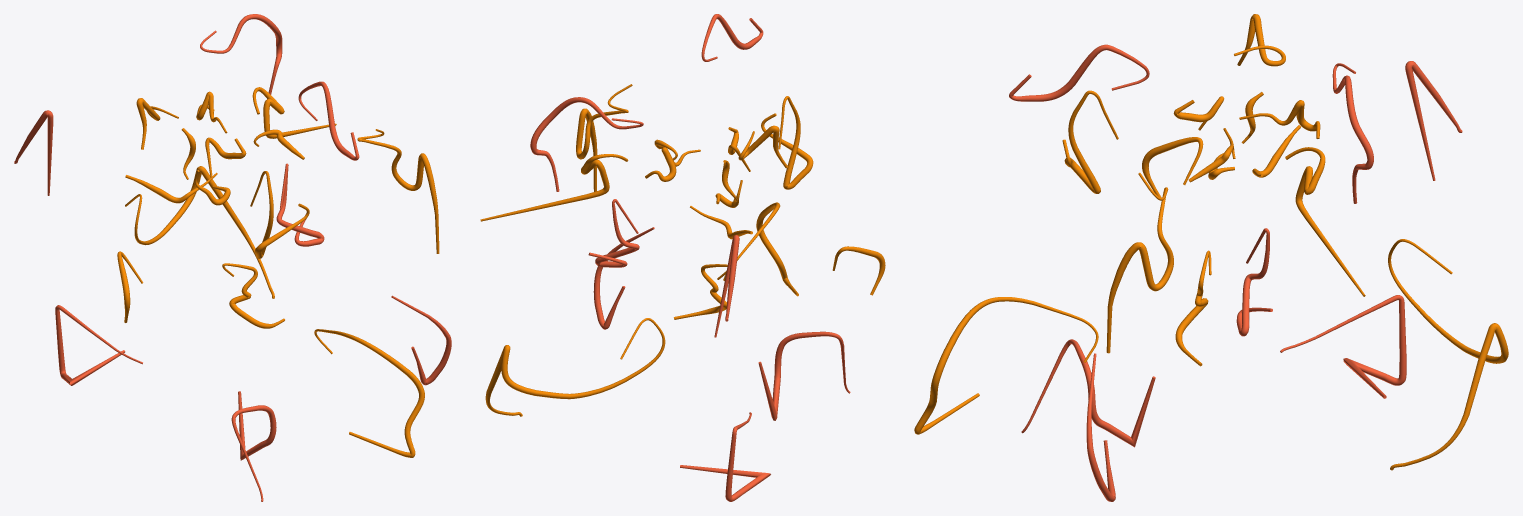
Rendered from ribbons.glb.
3 renders of one model, left to right at view 1: azimuth 30°, elevation 25°; view 2: azimuth 150°, elevation 25°; view 3: azimuth 270°, elevation 25°, orthographic. The views are drawn at different scales.
Parts seen in each view (by area): view 1: RIBBON_1, RIBBON_2; view 2: RIBBON_1, RIBBON_2; view 3: RIBBON_1, RIBBON_2.
Boxes of the visible parts, box(x1,y1,x2,y2) form: RIBBON_1: box(117, 87, 439, 457); RIBBON_2: box(14, 14, 451, 501); RIBBON_1: box(480, 84, 885, 416); RIBBON_2: box(530, 14, 850, 501); RIBBON_1: box(914, 14, 1508, 470); RIBBON_2: box(1009, 44, 1462, 501).
Bounding box in the file's own units: 33.07 × 38.51 × 46.71.
